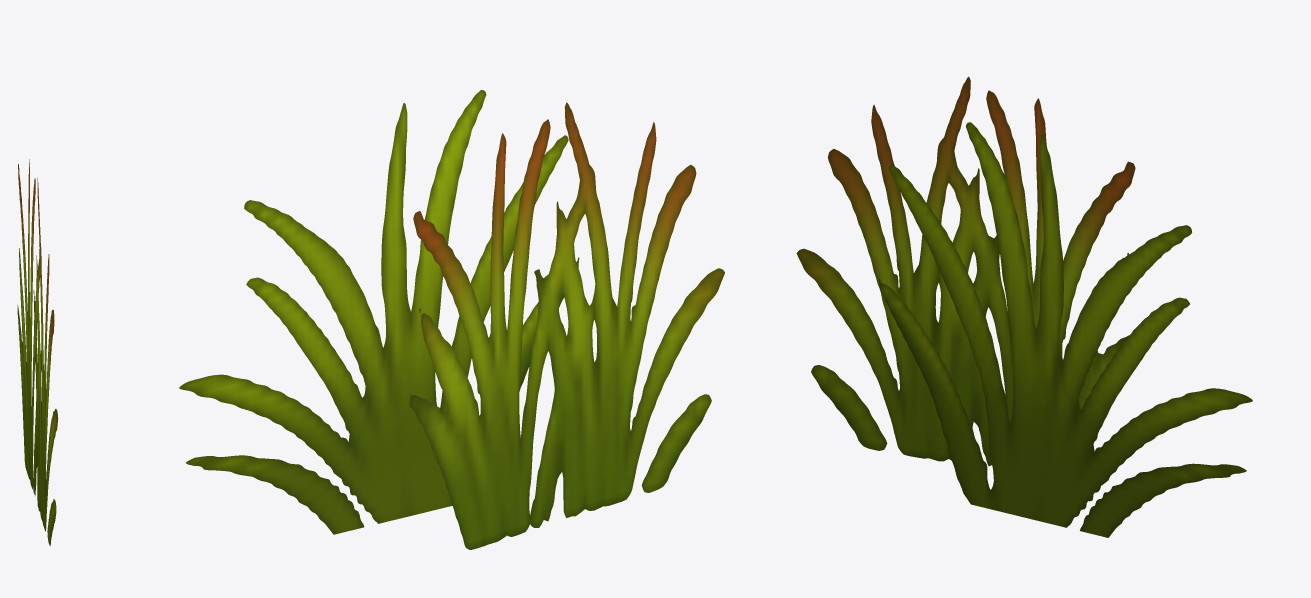
Rendered from Grass2.FBX.
3 renders of one model, left to right at view 1: azimuth 30°, elevation 25°; view 2: azimuth 150°, elevation 25°; view 3: azimuth 270°, elevation 25°, orthographic. The views are drawn at different scales.
Parts seen in each view (by area): view 1: Grass1; view 2: Grass1; view 3: Grass1.
Boxes of the visible parts, x1=… form: Grass1: x1=17, y1=159, x2=58, y2=545; Grass1: x1=179, y1=90, x2=724, y2=549; Grass1: x1=796, y1=76, x2=1252, y2=537.
Bounding box in the file's own units: 16.9 × 21.77 × 24.51.
